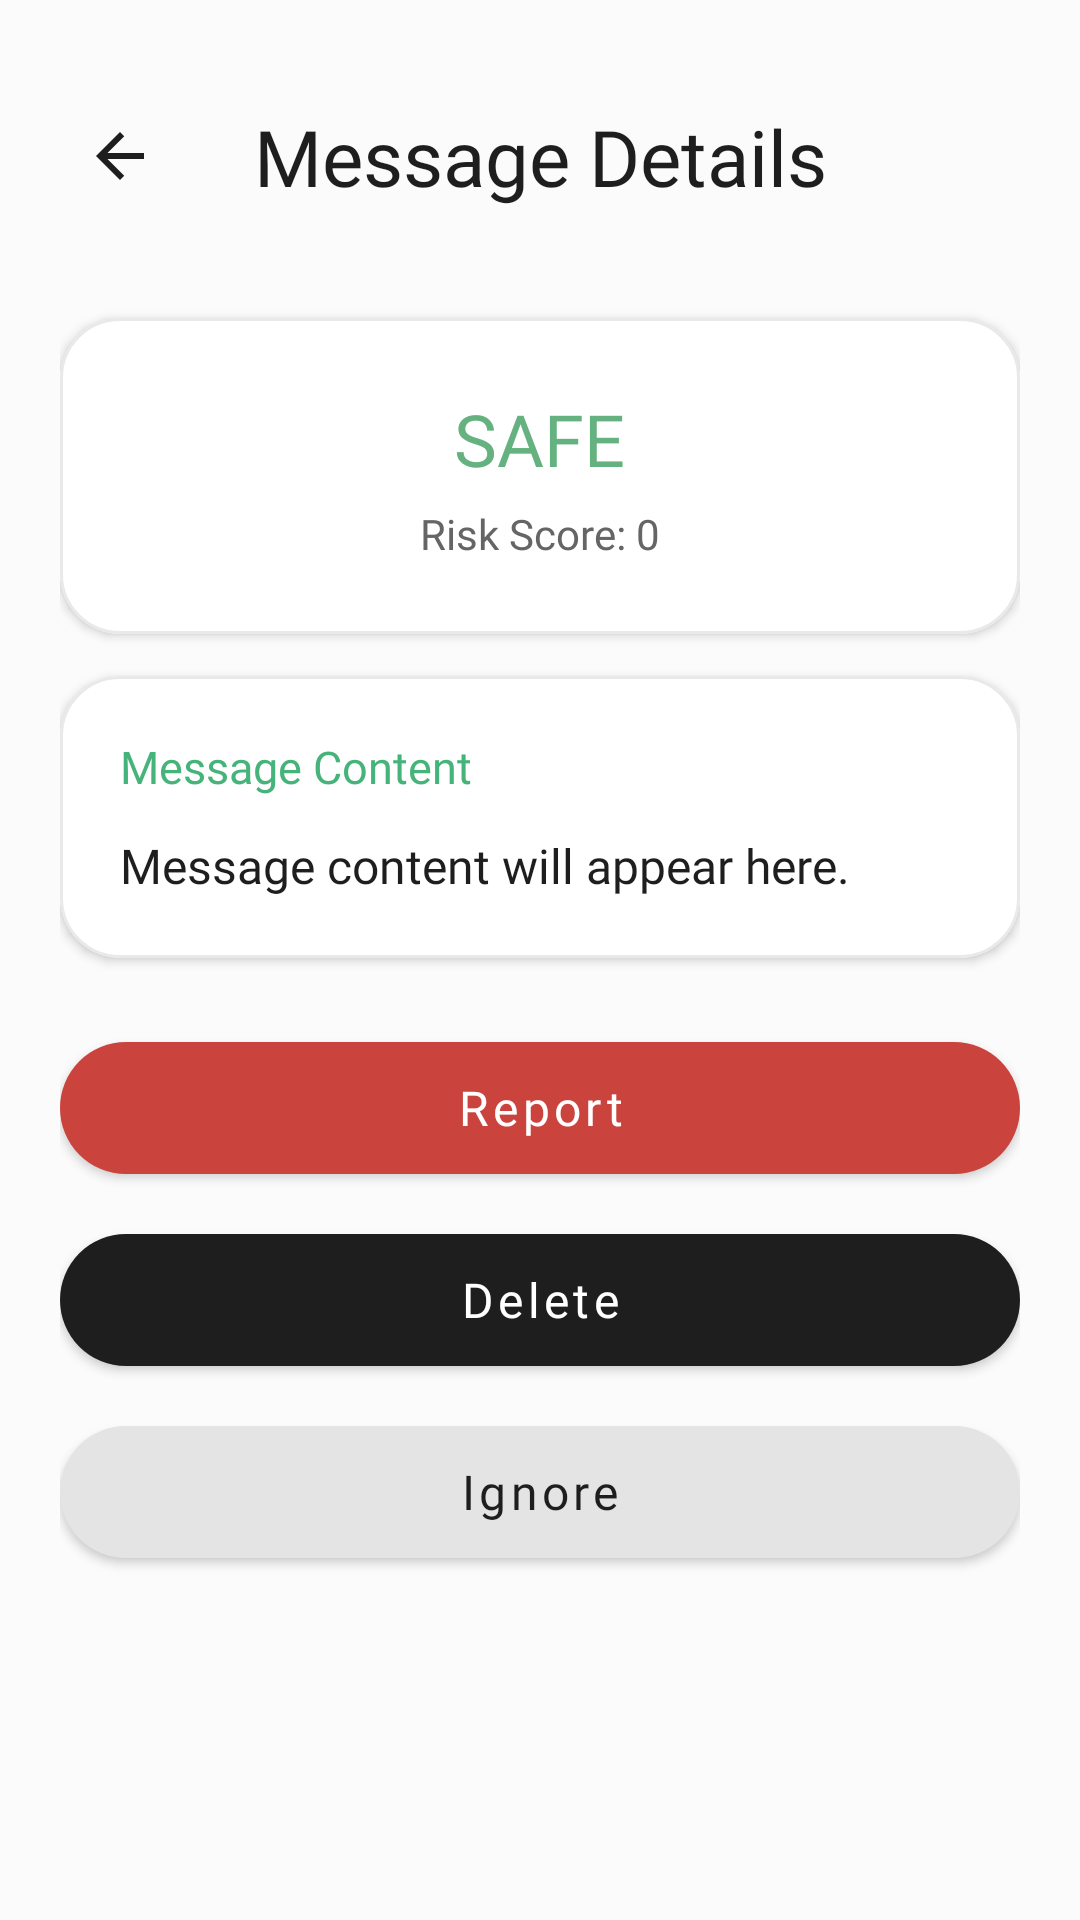

Where to tap for icons on this 1080x1920 app screen, as [x,y]:
Back: [120,156]
